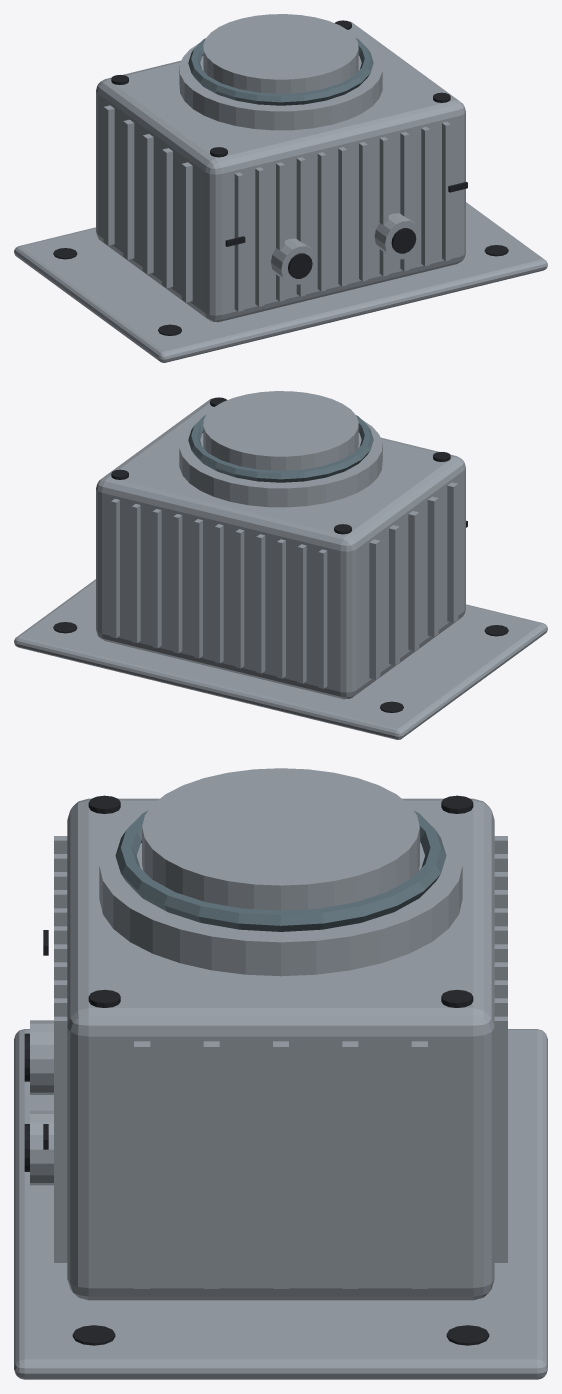
File: seismic-sensor.glb
3 views of the same model, one above another, from view 1: azimuth 30°, elevation 25°; view 2: azimuth 150°, elevation 25°; view 3: azimuth 270°, elevation 25° (orthographic). The views are drawn at different scales.
Parts seen in each view (by area): view 1: merged_metal, inactive_status_ring, merged_dark; view 2: merged_metal, inactive_status_ring, merged_dark; view 3: merged_metal, inactive_status_ring, merged_dark.
Part boxes in pixels (left/top/right/bottom): merged_metal: left=14, top=14, right=547, bottom=362; inactive_status_ring: left=188, top=38, right=373, bottom=105; merged_dark: left=53, top=20, right=508, bottom=335; merged_metal: left=14, top=391, right=547, bottom=739; inactive_status_ring: left=188, top=415, right=373, bottom=482; merged_dark: left=53, top=397, right=508, bottom=712; merged_metal: left=14, top=768, right=547, bottom=1379; inactive_status_ring: left=115, top=810, right=446, bottom=931; merged_dark: left=24, top=795, right=489, bottom=1345.
Size of the model in its own units: 0.15 by 0.08 by 0.1.
